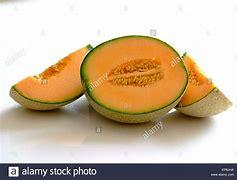Melon Ripe: (80, 36, 188, 125), (9, 44, 92, 111), (177, 51, 233, 118)
